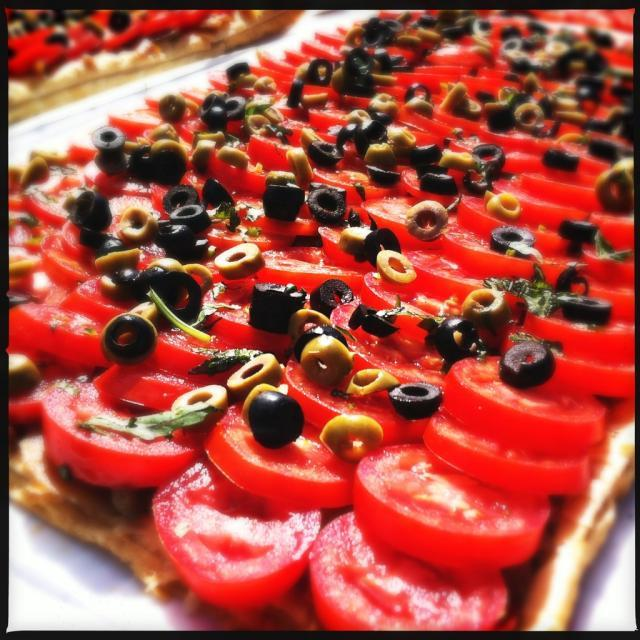Tomato: (7, 10, 639, 635), (432, 351, 610, 447)
